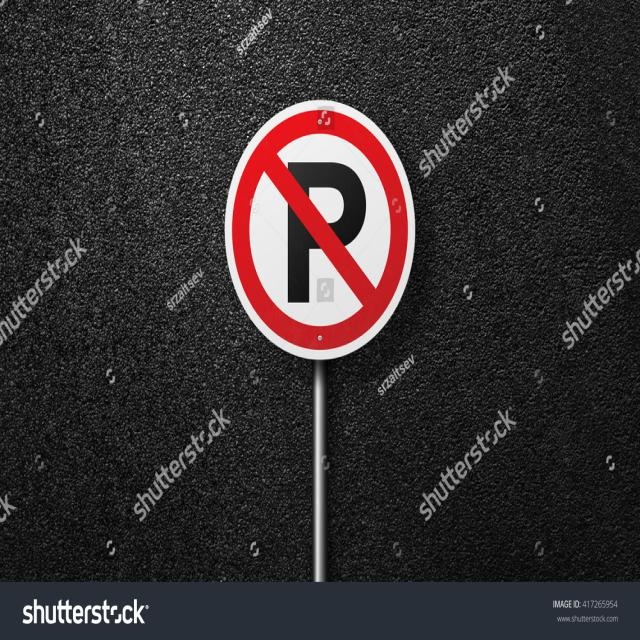Traffic sign: (207, 82, 426, 359)
